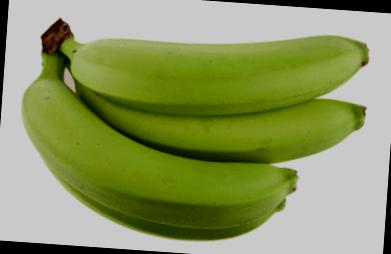Banana Unripe: (0, 3, 378, 254)
